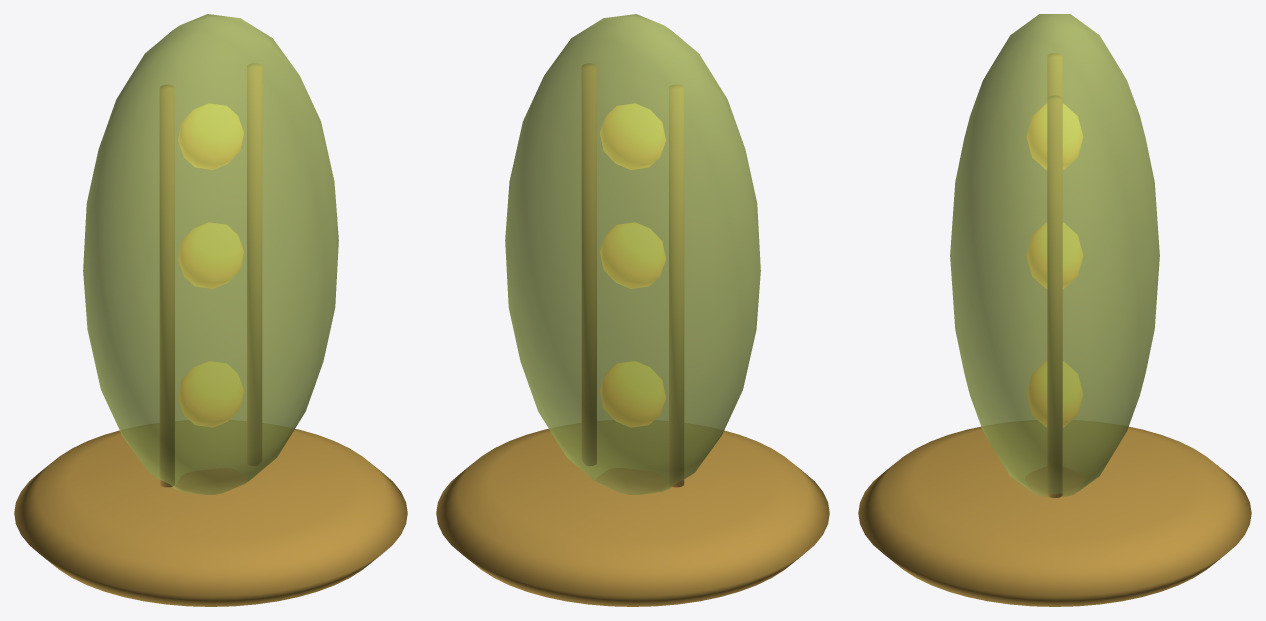
3 renders of one model, left to right at view 1: azimuth 30°, elevation 25°; view 2: azimuth 150°, elevation 25°; view 3: azimuth 270°, elevation 25°, orthographic.
Parts seen in each view (by area): view 1: TI060 / elliptical clear cocoon, TI060 / stepped circular cocoon plinth, TI060 / internal suspension rod, TI060 / internal suspension rod.001, TI060 / internal therapeutic light.002, TI060 / internal therapeutic light, TI060 / internal therapeutic light.001; view 2: TI060 / elliptical clear cocoon, TI060 / stepped circular cocoon plinth, TI060 / internal suspension rod, TI060 / internal suspension rod.001, TI060 / internal therapeutic light.002, TI060 / internal therapeutic light, TI060 / internal therapeutic light.001; view 3: TI060 / elliptical clear cocoon, TI060 / stepped circular cocoon plinth, TI060 / internal suspension rod.001, TI060 / internal therapeutic light.001, TI060 / internal therapeutic light.002, TI060 / internal therapeutic light, TI060 / internal suspension rod.
Part boxes in pixels (x1,y1,x2,y2): TI060 / elliptical clear cocoon: [83, 14, 338, 494]; TI060 / stepped circular cocoon plinth: [14, 428, 407, 606]; TI060 / internal suspension rod: [159, 85, 174, 487]; TI060 / internal suspension rod.001: [247, 63, 261, 465]; TI060 / internal therapeutic light.002: [178, 103, 243, 169]; TI060 / internal therapeutic light: [178, 361, 243, 427]; TI060 / internal therapeutic light.001: [178, 222, 243, 288]; TI060 / elliptical clear cocoon: [505, 14, 760, 494]; TI060 / stepped circular cocoon plinth: [436, 428, 829, 606]; TI060 / internal suspension rod: [669, 85, 684, 487]; TI060 / internal suspension rod.001: [582, 63, 596, 465]; TI060 / internal therapeutic light.002: [600, 103, 665, 169]; TI060 / internal therapeutic light: [600, 361, 665, 427]; TI060 / internal therapeutic light.001: [600, 222, 665, 288]; TI060 / elliptical clear cocoon: [950, 14, 1159, 496]; TI060 / stepped circular cocoon plinth: [858, 426, 1251, 606]; TI060 / internal suspension rod.001: [1047, 95, 1062, 497]; TI060 / internal therapeutic light.001: [1027, 222, 1082, 288]; TI060 / internal therapeutic light.002: [1027, 104, 1082, 169]; TI060 / internal therapeutic light: [1027, 361, 1082, 427]; TI060 / internal suspension rod: [1047, 53, 1062, 97].
Bounding box in the file's own units: 1.8 × 2.6 × 1.8.
